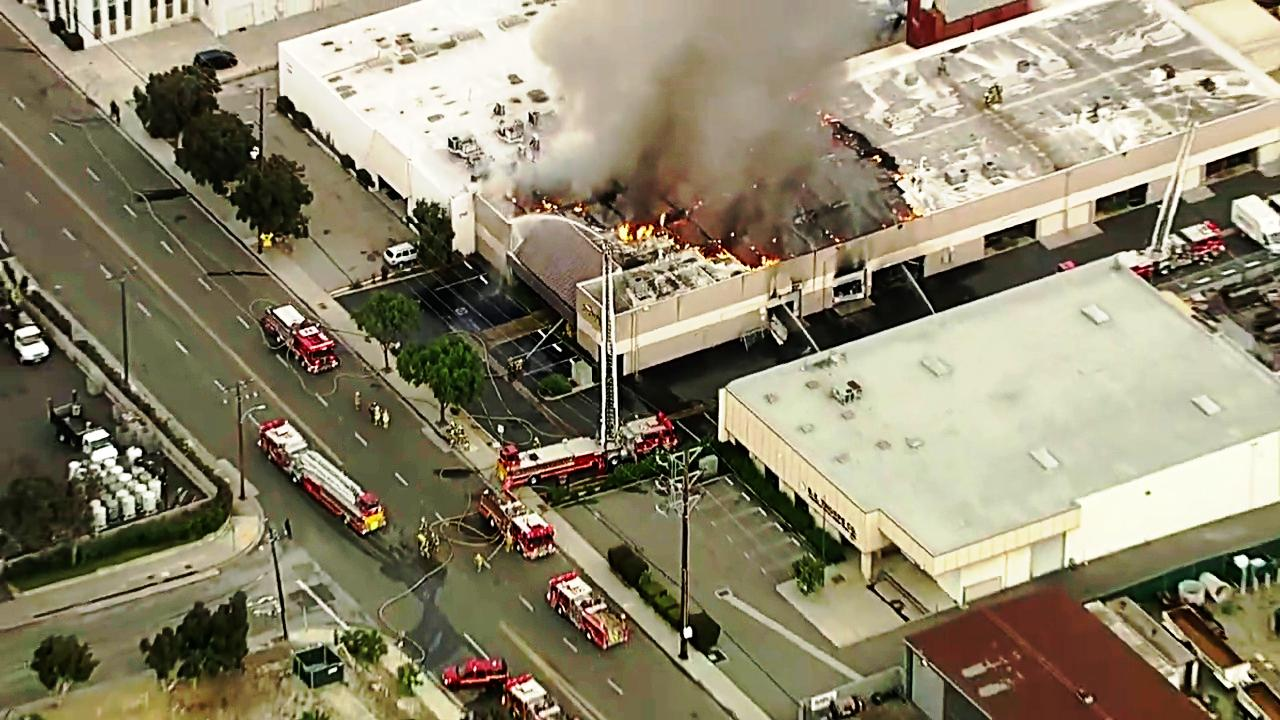smoke: (593, 0, 803, 168)
